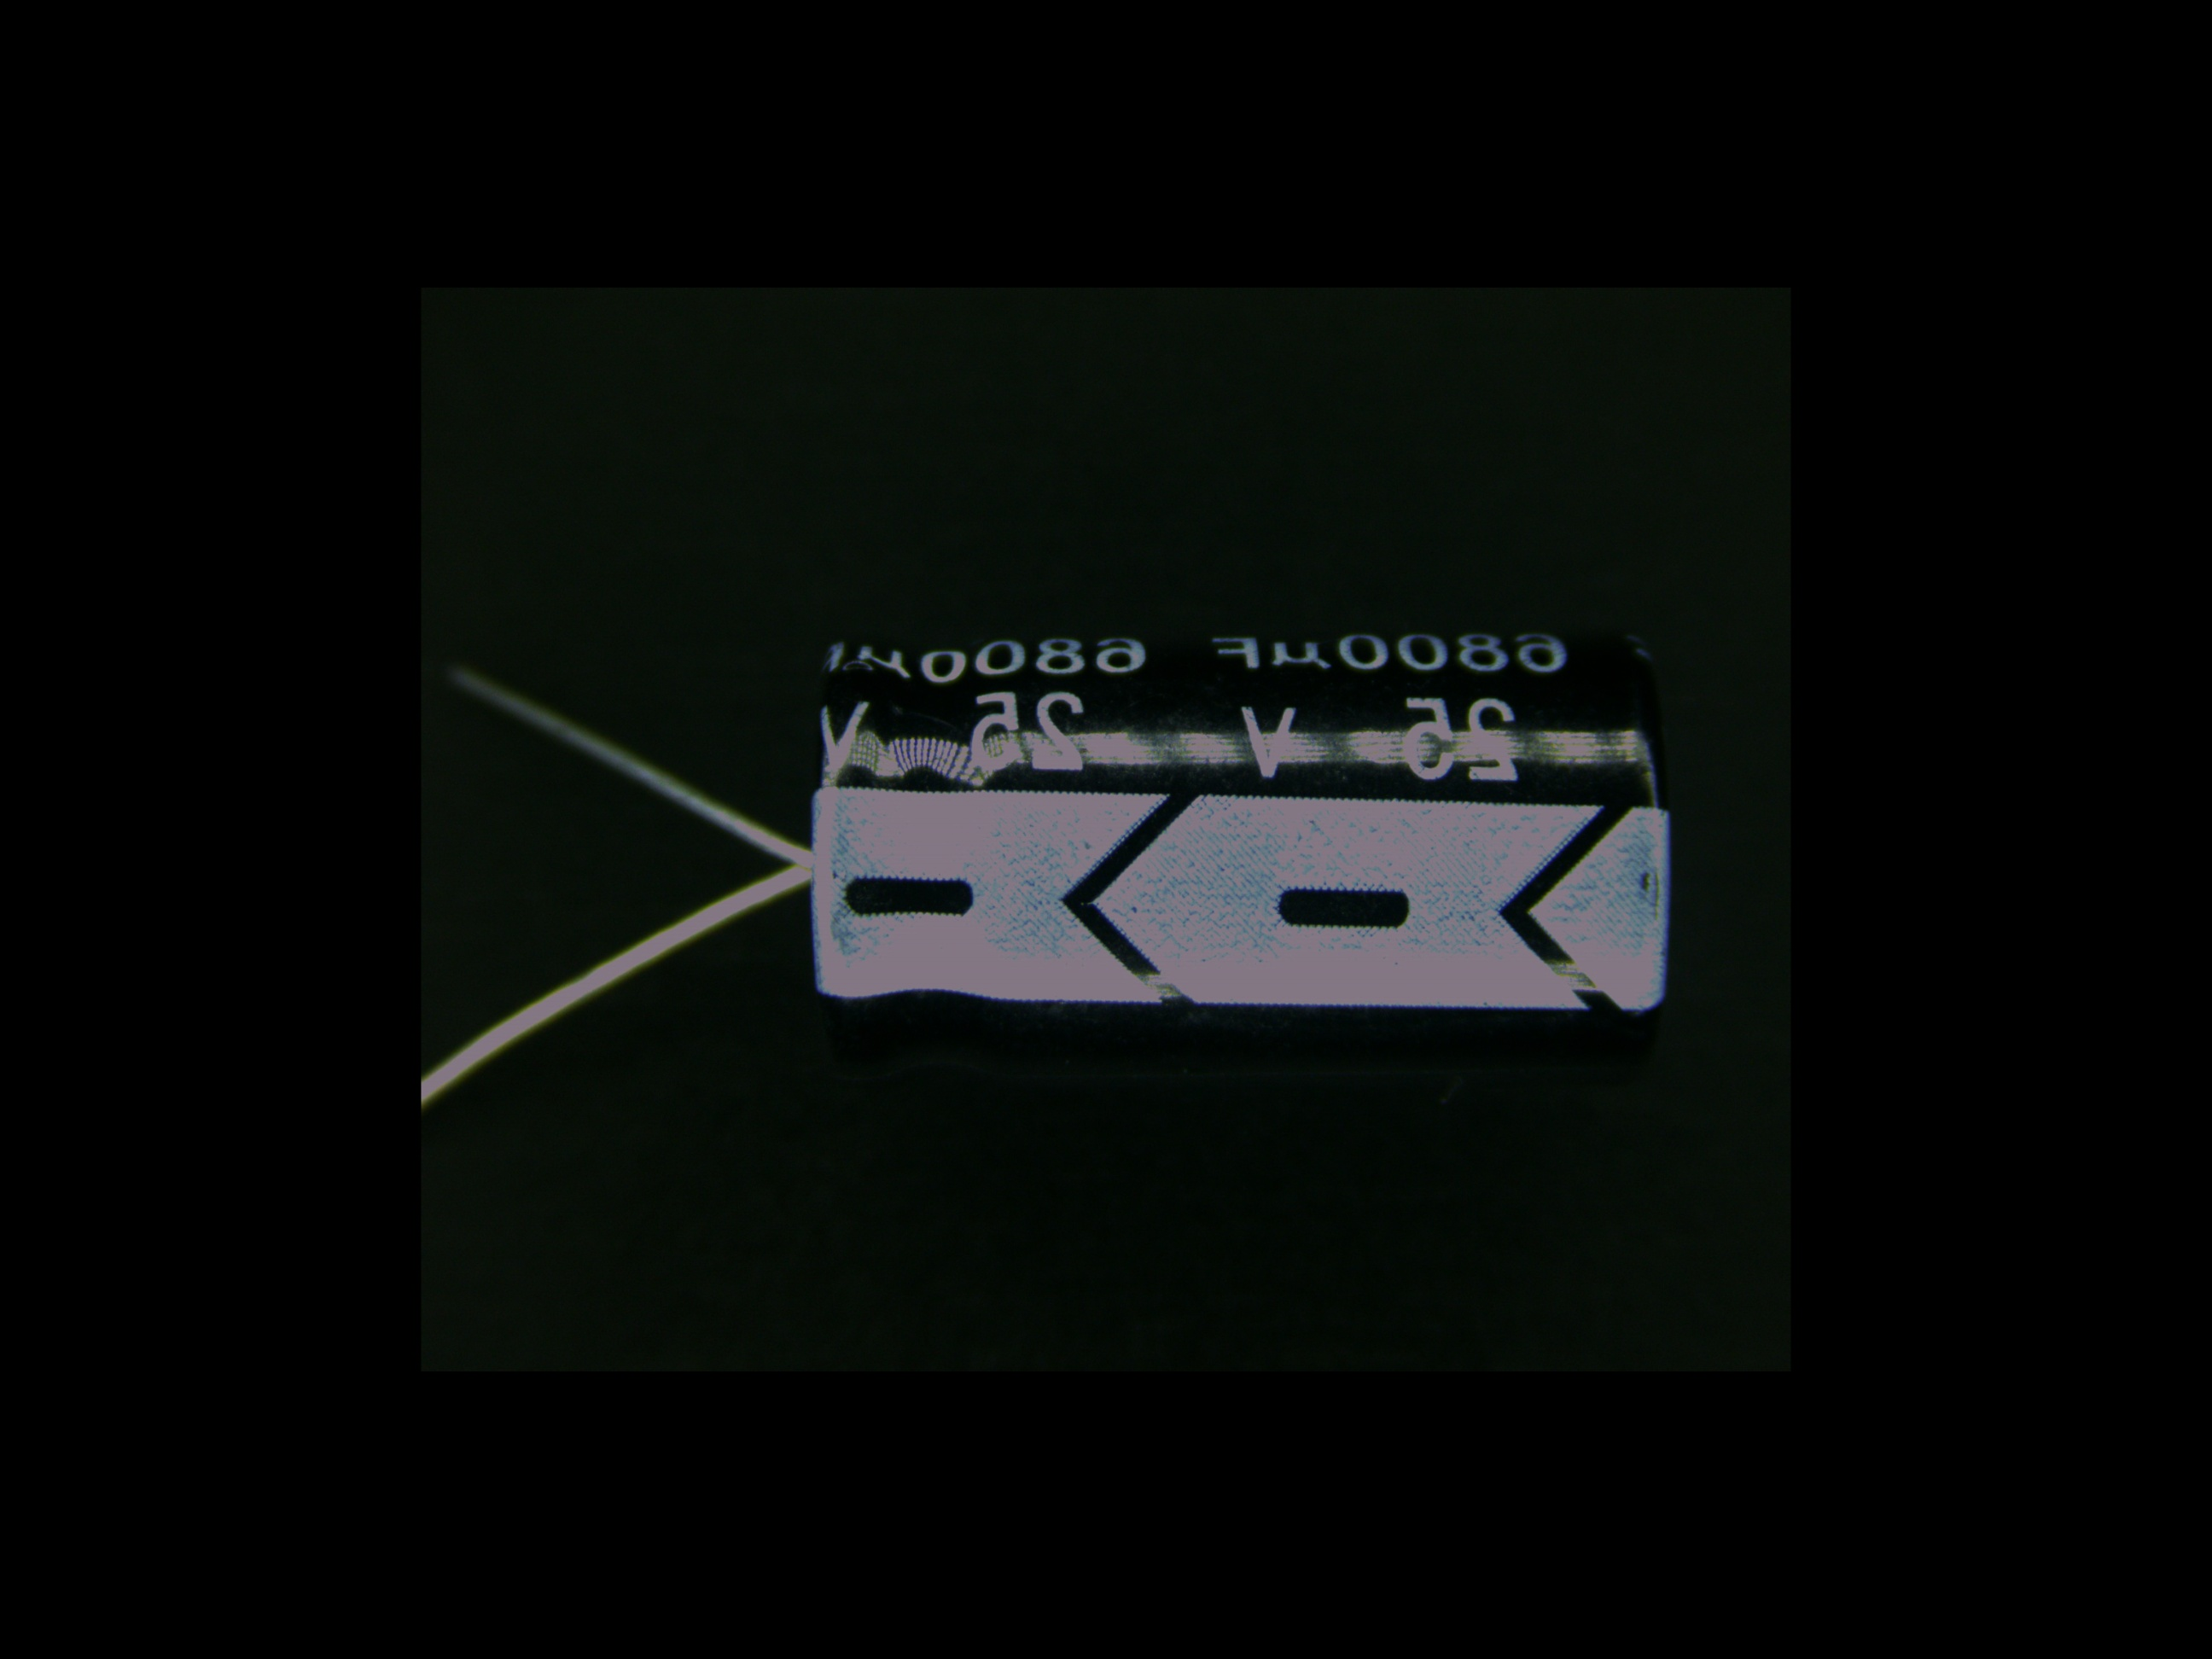c3: (611, 619, 1677, 1096)
